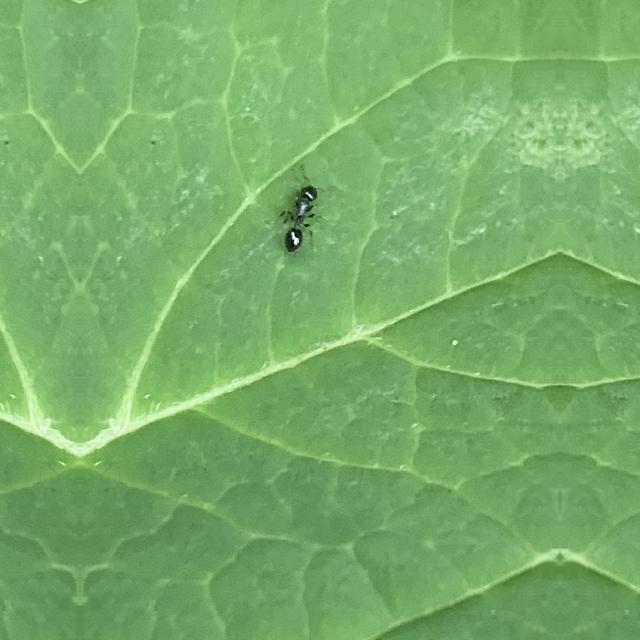Temnothorax: (270, 152, 352, 270)
